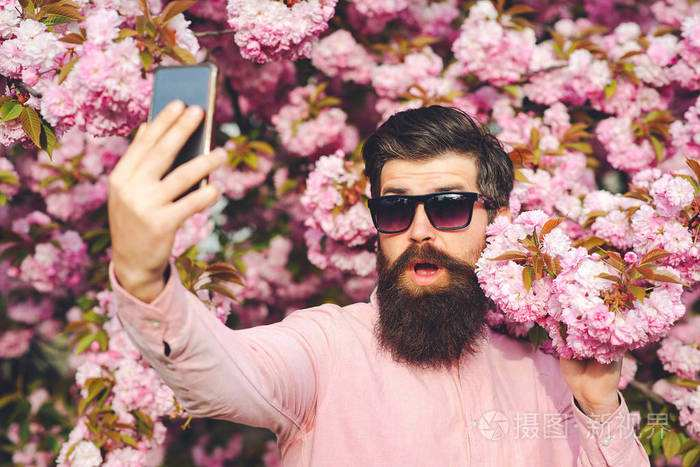taking photos: (98, 60, 231, 277)
